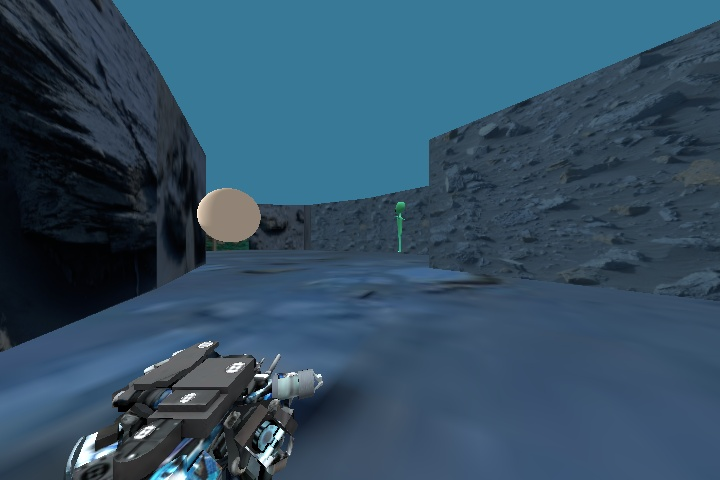green_alien: (385, 194, 415, 256)
white_sphere: (186, 180, 270, 249)
